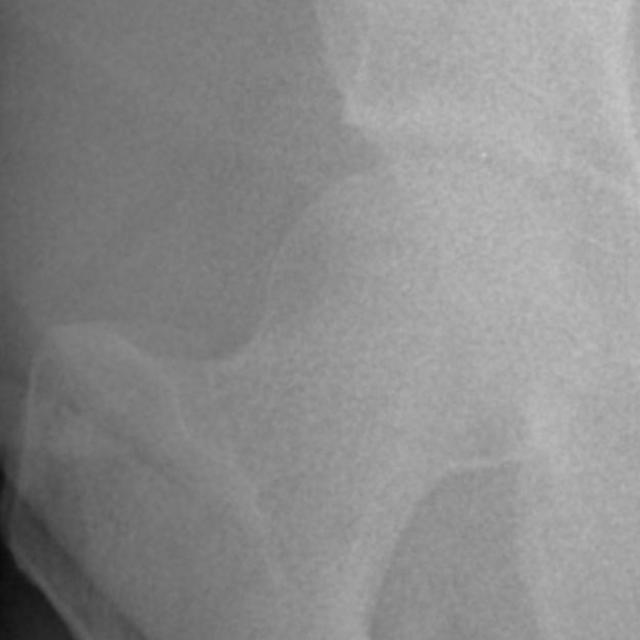Fitted_femural_head: (332, 154, 432, 332)
